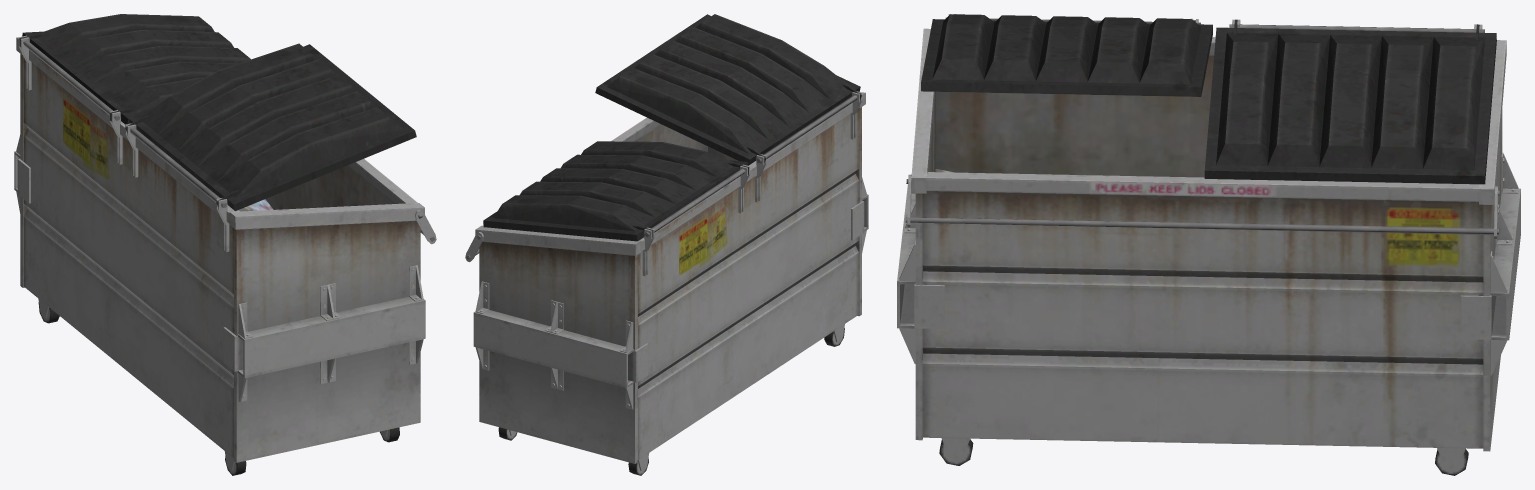
The model's file is Archery_Dumpster01.fbx.
3 renders of one model, left to right at view 1: azimuth 30°, elevation 25°; view 2: azimuth 150°, elevation 25°; view 3: azimuth 270°, elevation 25°, orthographic. The views are drawn at different scales.
Visible parts, largest first — view 1: ItemBox_Dumpster_01_0_1; view 2: ItemBox_Dumpster_01_0_1; view 3: ItemBox_Dumpster_01_0_1.
Part boxes in pixels (x1=…): ItemBox_Dumpster_01_0_1: x1=14, y1=14, x2=436, y2=475; ItemBox_Dumpster_01_0_1: x1=465, y1=14, x2=868, y2=475; ItemBox_Dumpster_01_0_1: x1=897, y1=14, x2=1520, y2=475.
Bounding box in the file's own units: 123 × 174 × 245.
Materials: 1 (1 with a texture image).
